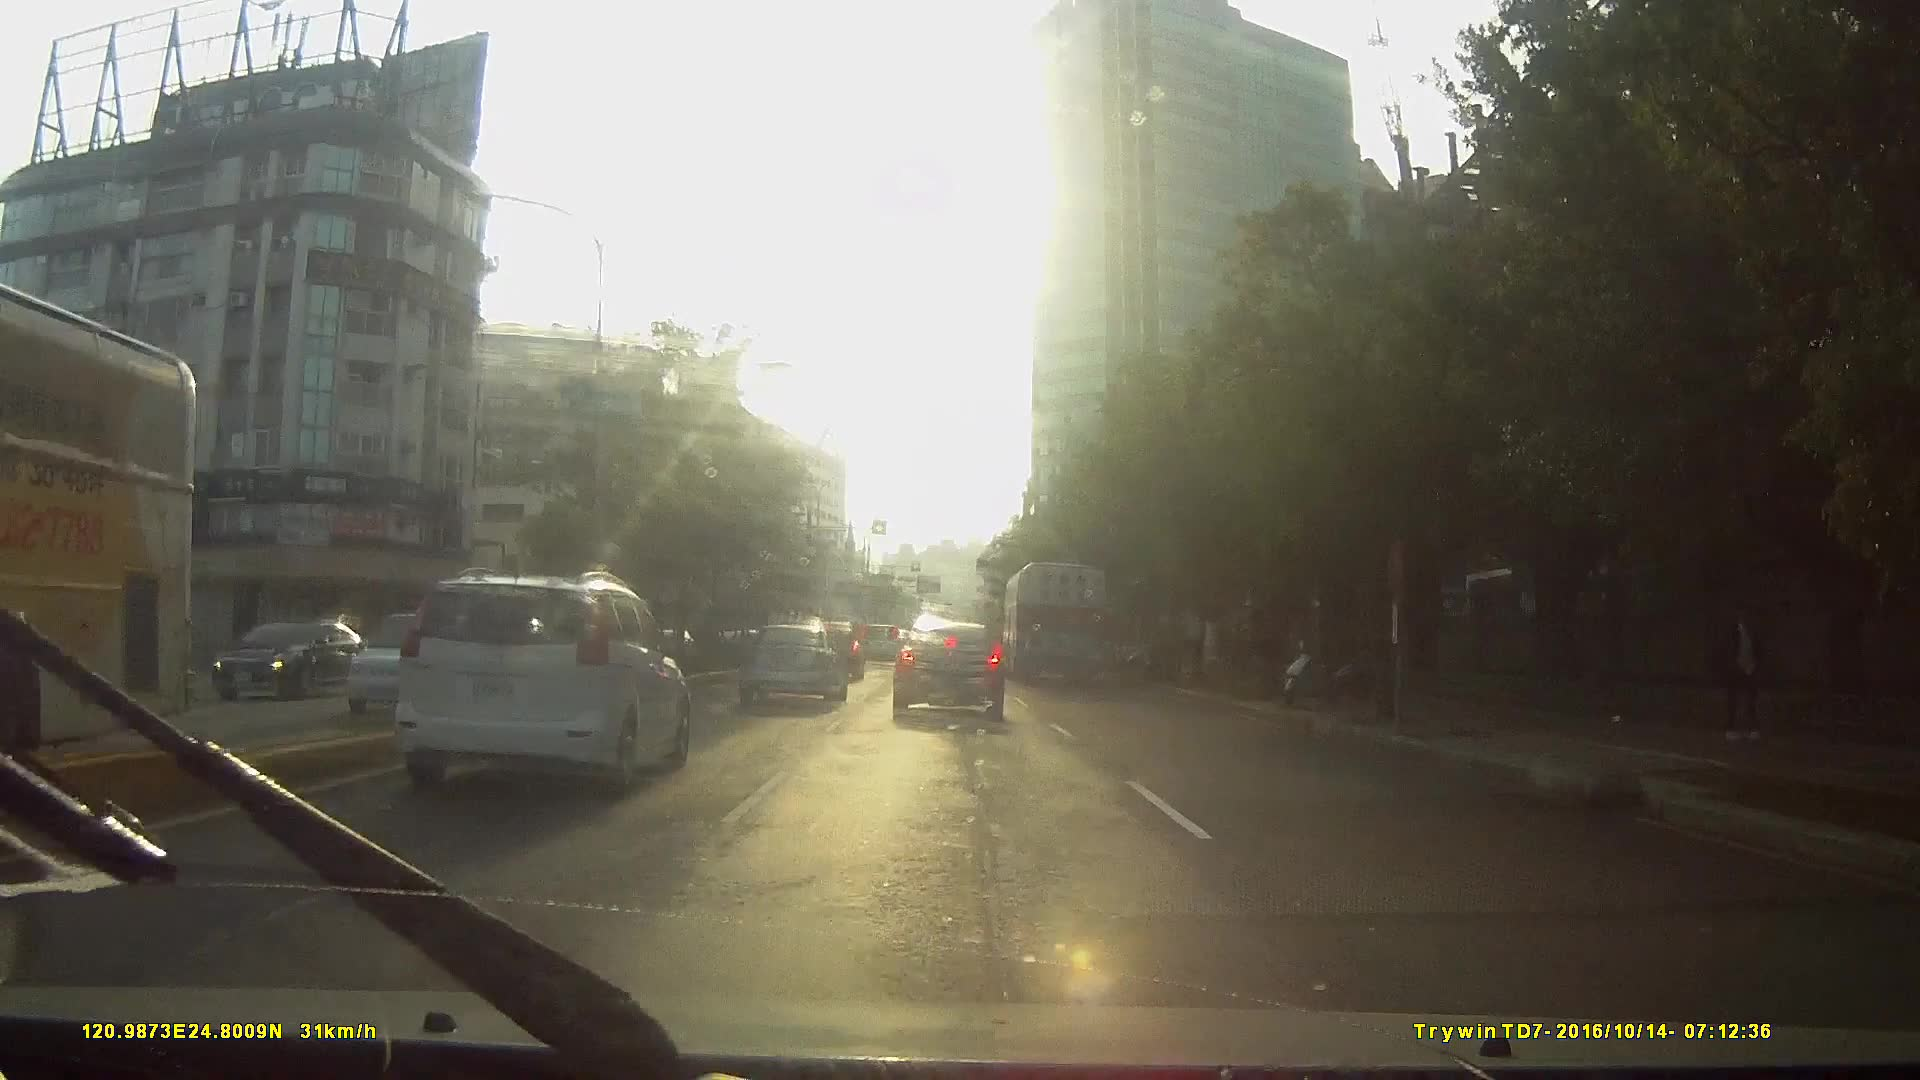pedestrian: (1700, 585, 1773, 749)
vehicle: (250, 556, 684, 868), (1, 285, 212, 818), (390, 565, 687, 792), (329, 606, 512, 710), (198, 613, 382, 703), (1003, 555, 1110, 684), (888, 611, 1004, 718), (733, 619, 843, 703), (853, 615, 902, 664)
